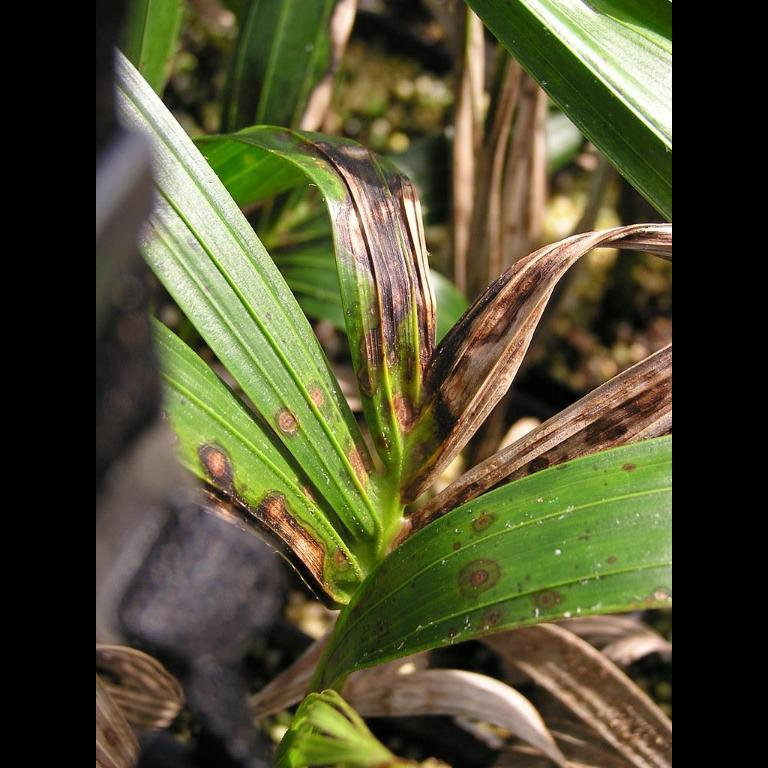blight: (244, 478, 346, 586), (262, 354, 344, 442)
